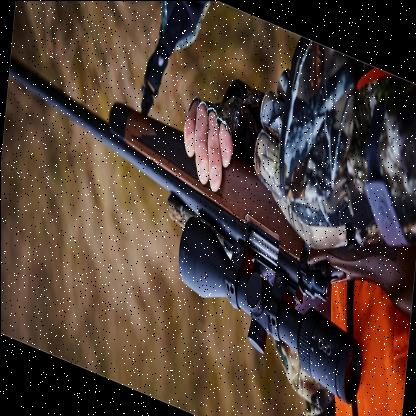rifle: (0, 25, 414, 416)
